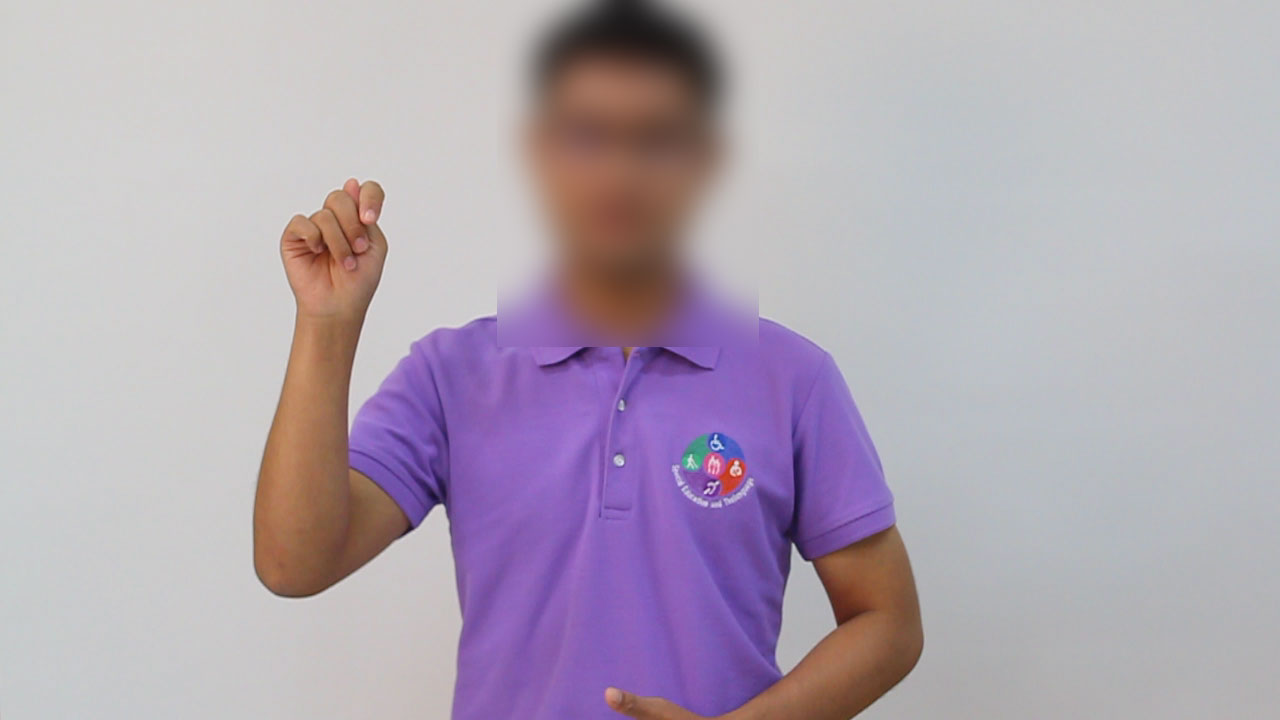tor: (263, 168, 413, 336)
